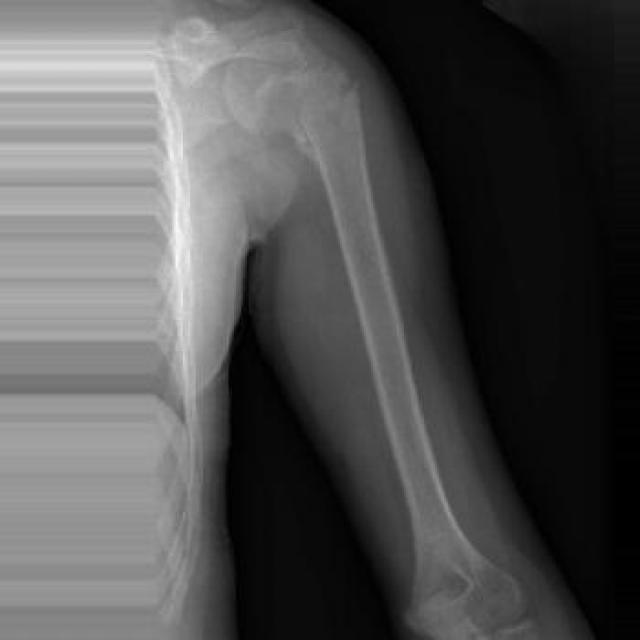Fracture: (324, 75, 368, 107)
